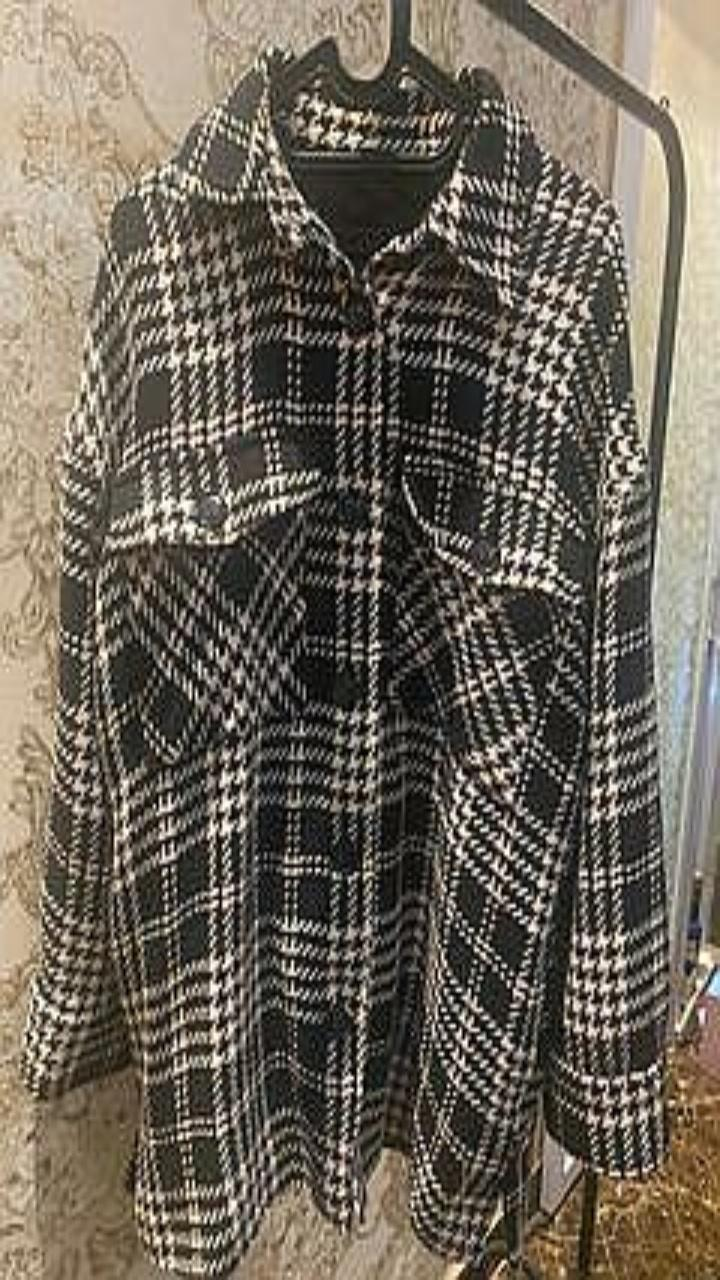Sports_Jacket: (22, 45, 668, 1276)
